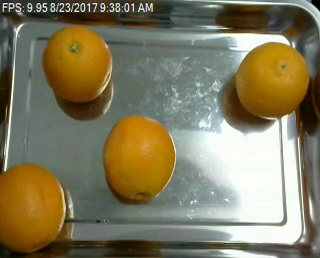Orange: (102, 115, 175, 200), (1, 162, 66, 253), (234, 42, 310, 119), (42, 25, 112, 103)
